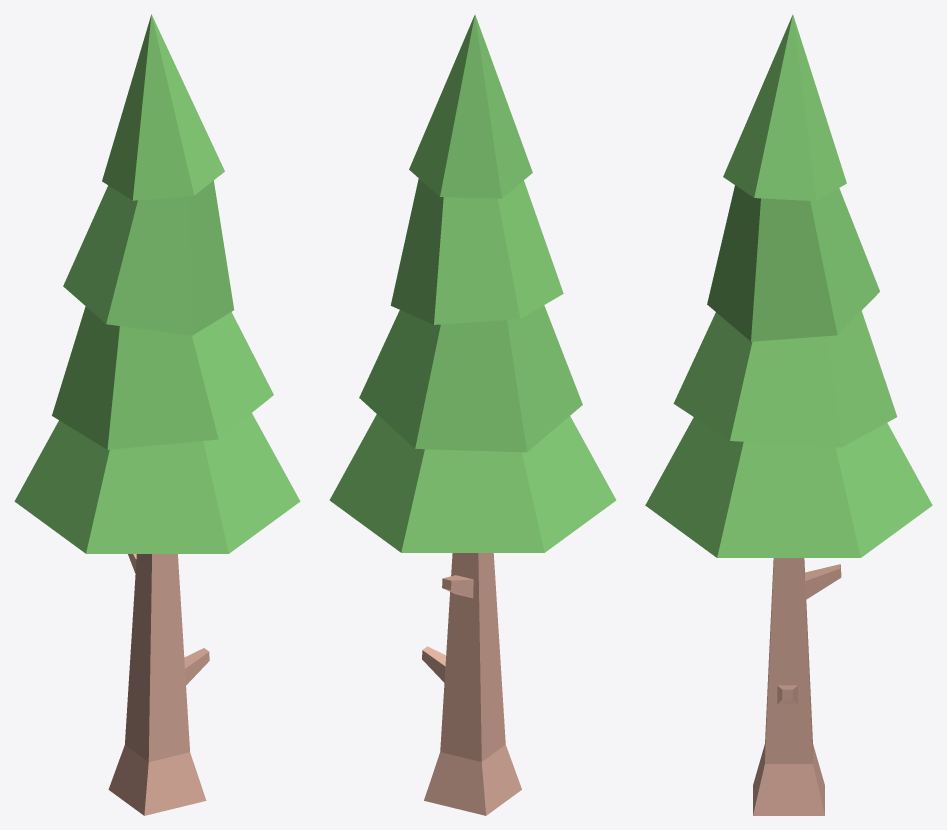
Rendered from tree_pineTallC_detailed.glb.
3 views of the same model, side by side, from view 1: azimuth 30°, elevation 25°; view 2: azimuth 150°, elevation 25°; view 3: azimuth 270°, elevation 25° (orthographic).
Parts seen in each view (by area): view 1: tree_pineTallC_detailed; view 2: tree_pineTallC_detailed; view 3: tree_pineTallC_detailed.
Part boxes in pixels (x1,y1,x2,y2): tree_pineTallC_detailed: (14, 14, 300, 815); tree_pineTallC_detailed: (329, 14, 616, 815); tree_pineTallC_detailed: (645, 14, 932, 815).
Bounding box in the file's own units: 0.4804 × 1.67 × 0.5547.
